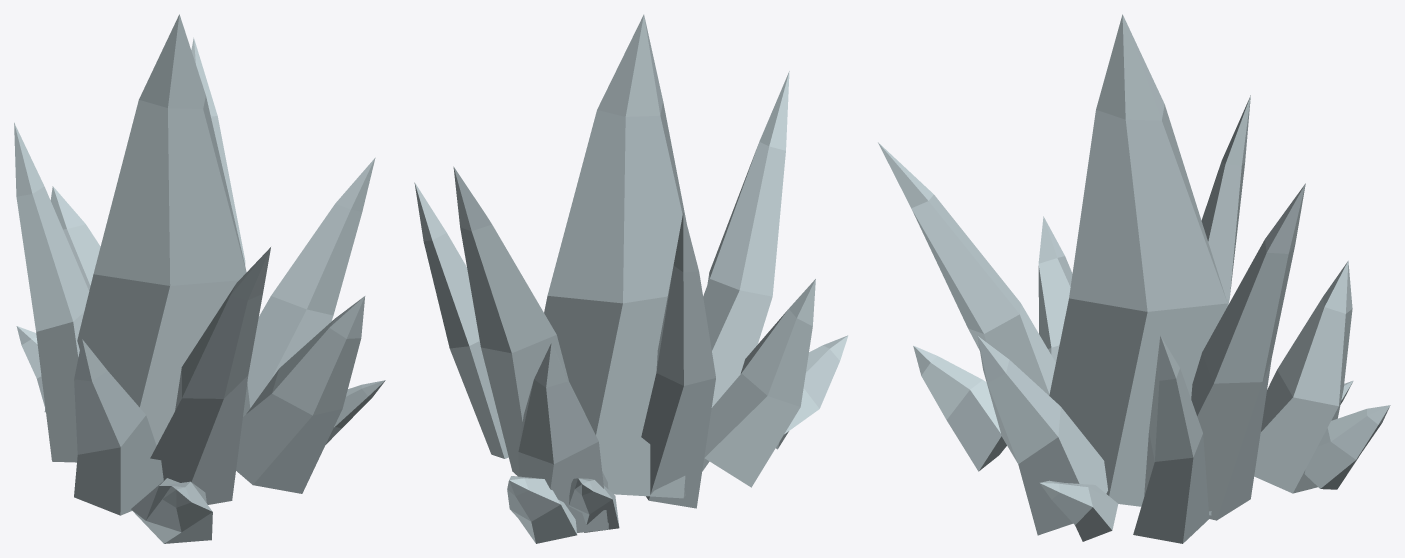
Rendered from ice_spire.glb.
The picture shows the model from 3 angles, left to right: view 1: azimuth 30°, elevation 25°; view 2: azimuth 150°, elevation 25°; view 3: azimuth 270°, elevation 25°; orthographic projection. The views are drawn at different scales.
Parts seen in each view (by area): view 1: ice_spire; view 2: ice_spire; view 3: ice_spire.
Part boxes in pixels (<box>): ice_spire: <box>14,14,385,543</box>; ice_spire: <box>414,14,848,543</box>; ice_spire: <box>878,14,1390,543</box>.
Size of the model in its own units: 0.8385 by 1.07 by 1.03.
